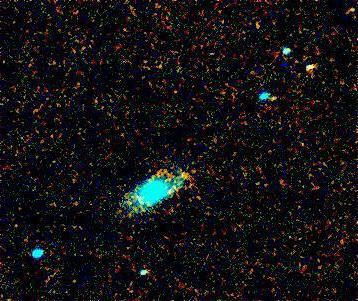star: (167, 159, 197, 189)
